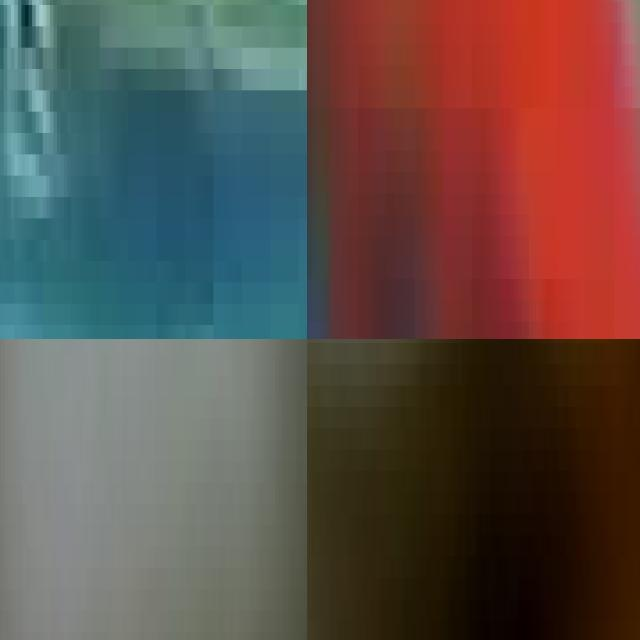fish: (307, 0, 640, 339), (0, 0, 307, 339)
